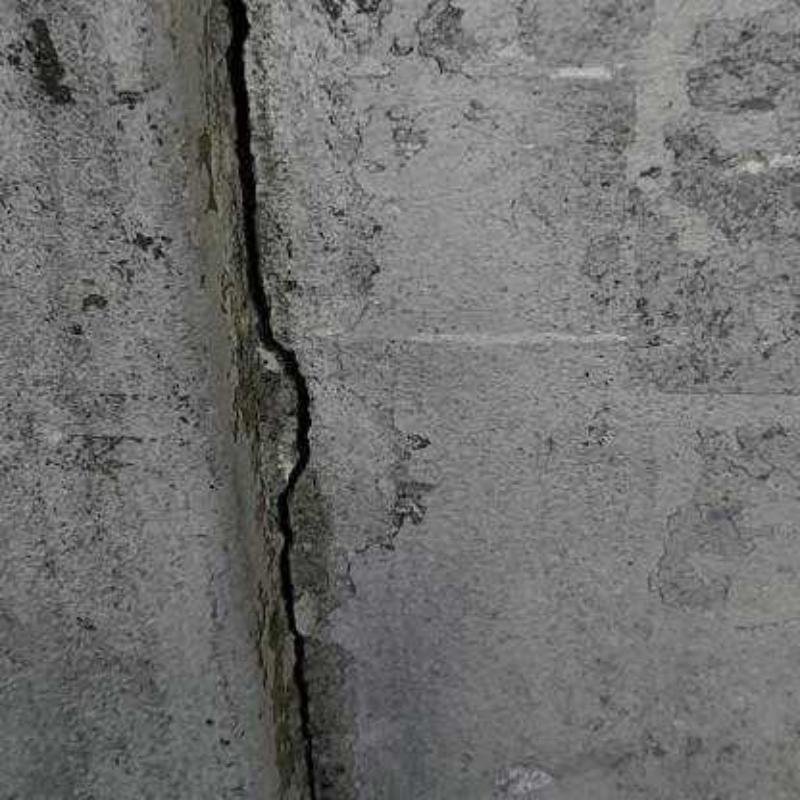pothole: (221, 0, 315, 800)
